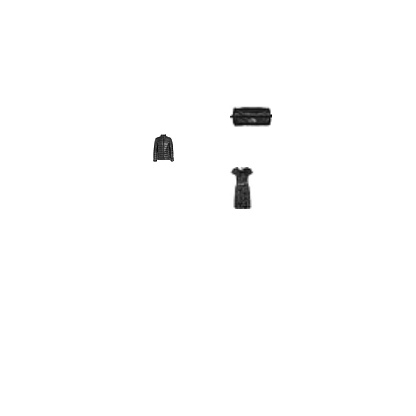Bag: (230, 95, 272, 137)
Coat: (149, 134, 177, 162)
Dress: (220, 167, 262, 209)
